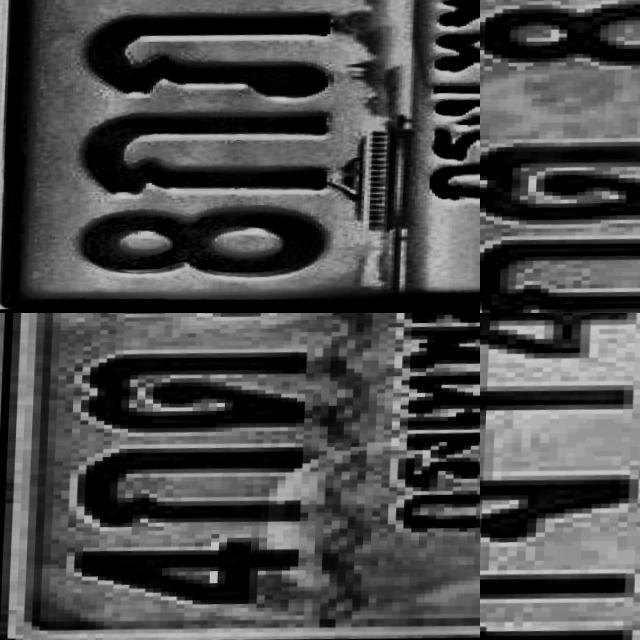license-plate: (0, 313, 480, 640), (0, 0, 480, 313), (480, 313, 640, 640), (480, 0, 640, 313)
